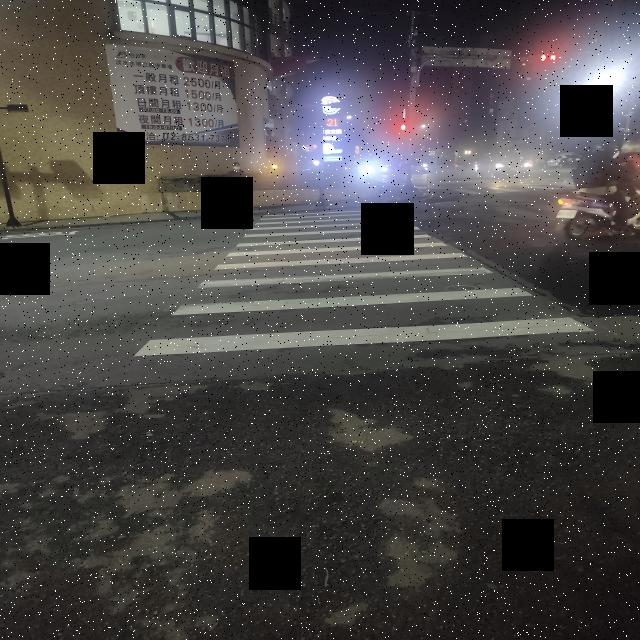person: (575, 141, 633, 235)
zebra crossing: (126, 211, 589, 352)
